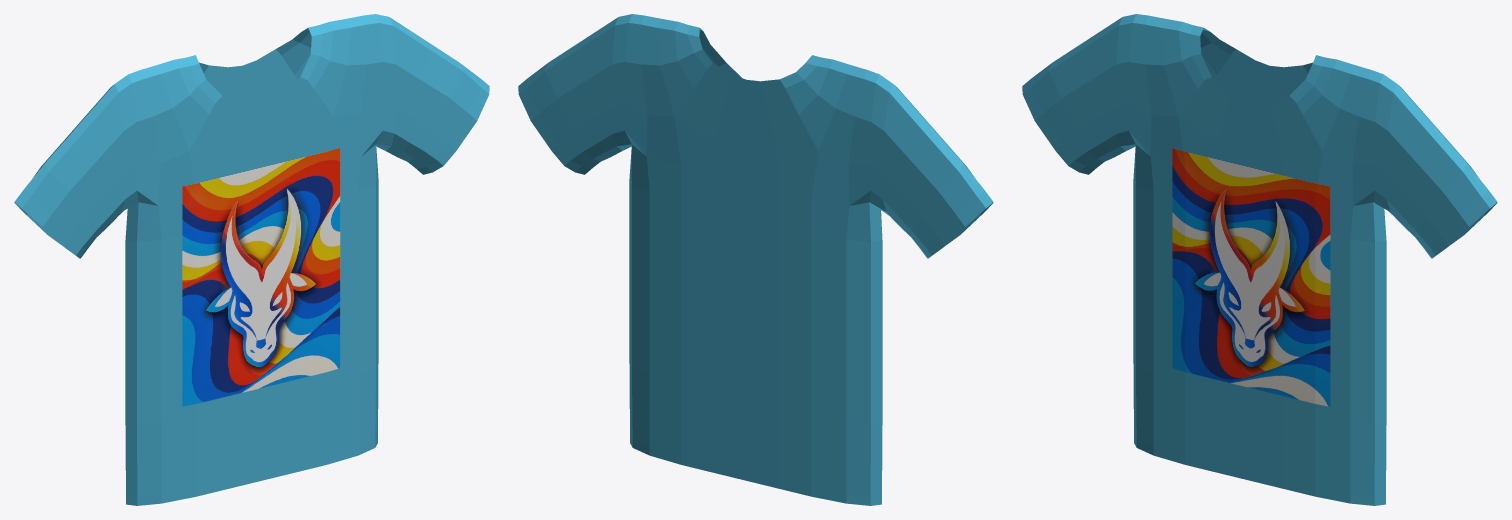
The model's file is Tshirt.fbx.
The picture shows the model from 3 angles, left to right: view 1: azimuth 30°, elevation 25°; view 2: azimuth 150°, elevation 25°; view 3: azimuth 330°, elevation 25°; orthographic projection.
Visible parts, largest first — view 1: Shirt; view 2: Shirt; view 3: Shirt.
Boxes of the visible parts, x1,y1,x2,y2 form: Shirt: [14, 14, 489, 505]; Shirt: [518, 14, 993, 505]; Shirt: [1022, 14, 1497, 505].
Bounding box in the file's own units: 14.08 × 12.26 × 0.9839.
1 material, 1 textured.
